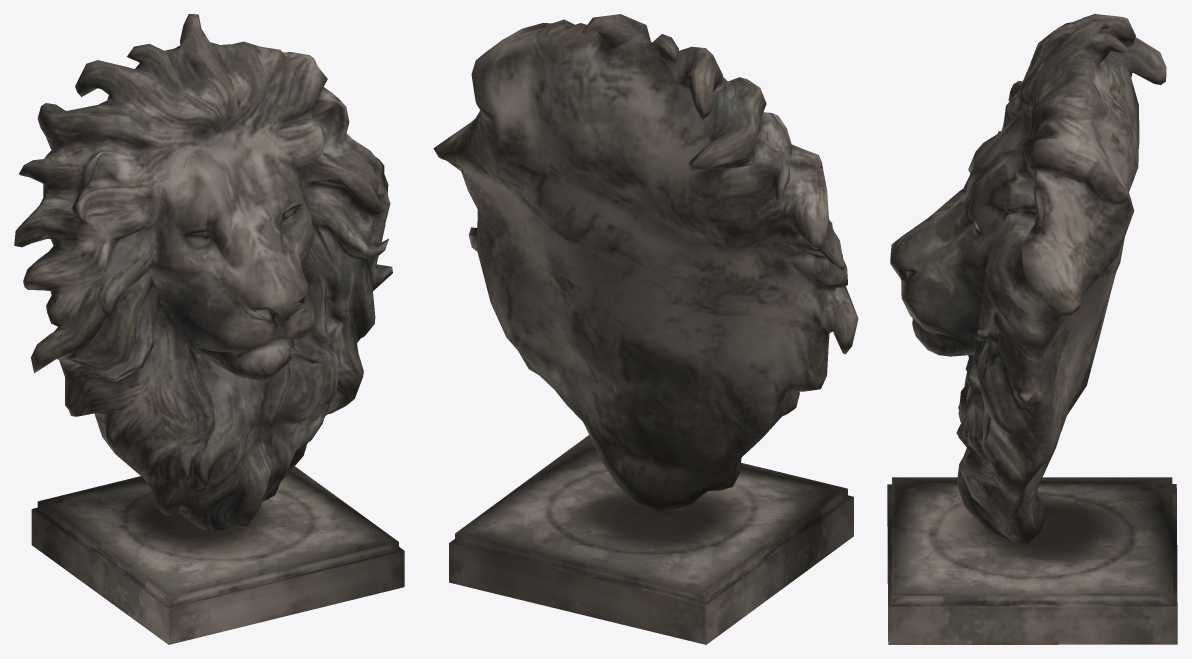
Rendered from ph_lion_head.glb.
The picture shows the model from 3 angles, left to right: view 1: azimuth 30°, elevation 25°; view 2: azimuth 150°, elevation 25°; view 3: azimuth 270°, elevation 25°; orthographic projection. The views are drawn at different scales.
Visible parts, largest first — view 1: lion_head; view 2: lion_head; view 3: lion_head.
Part boxes in pixels (bbox=[...]): lion_head: bbox=[14, 14, 404, 644]; lion_head: bbox=[433, 14, 858, 644]; lion_head: bbox=[887, 14, 1177, 644].
Size of the model in its own units: 0.3203 by 0.4358 by 0.2066.
Materials: 1 (1 with a texture image).
